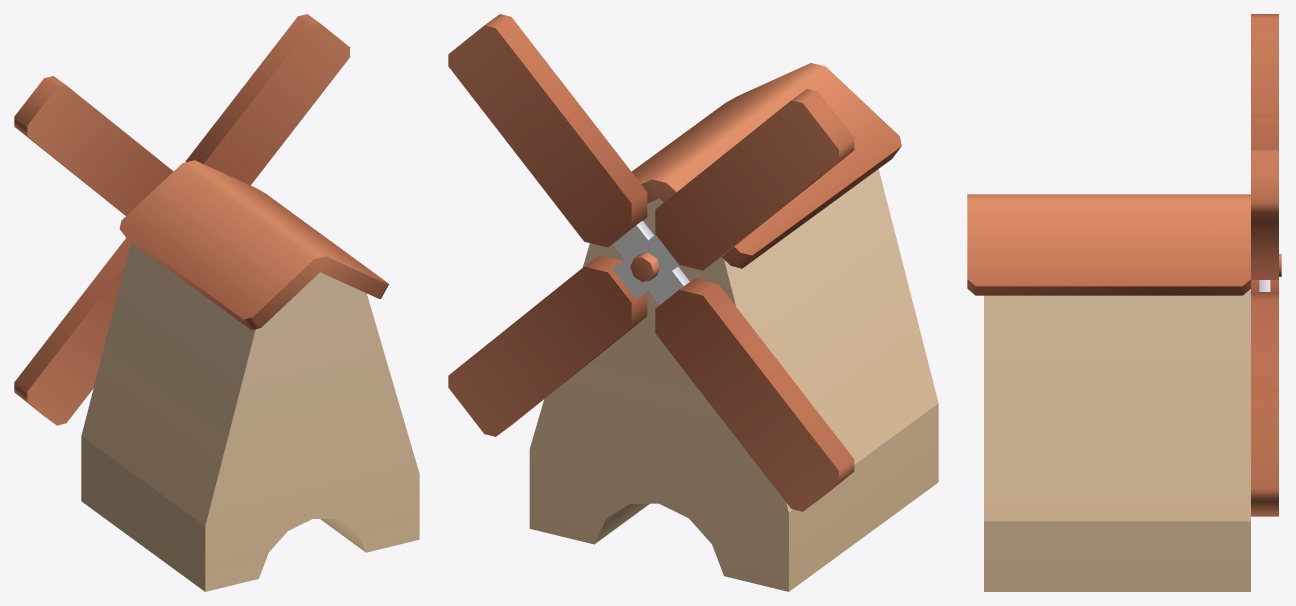
File: structure-windmill.glb
The picture shows the model from 3 angles, left to right: view 1: azimuth 30°, elevation 25°; view 2: azimuth 150°, elevation 25°; view 3: azimuth 270°, elevation 25°; orthographic projection. The views are drawn at different scales.
Visible parts, largest first — view 1: structure-windmill; view 2: structure-windmill; view 3: structure-windmill.
Boxes of the visible parts, x1=… form: structure-windmill: x1=14, y1=14, x2=419, y2=591; structure-windmill: x1=448, y1=14, x2=938, y2=591; structure-windmill: x1=967, y1=14, x2=1281, y2=591.
Bounding box in the file's own units: 1.2 × 1.5 × 0.9416.
1 material, 1 textured.
